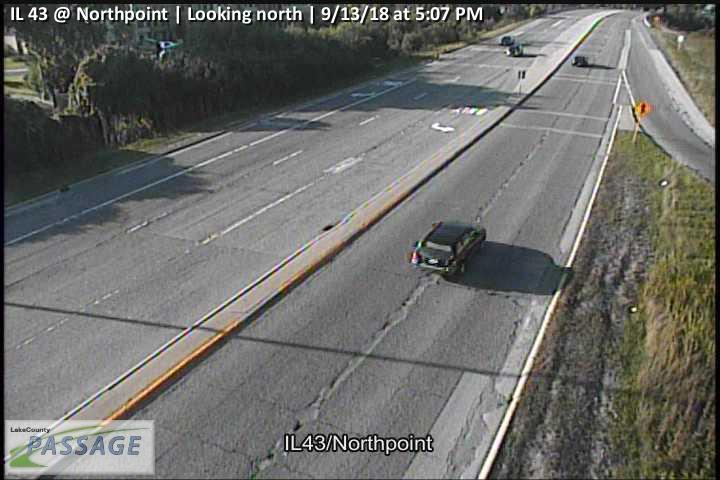Sedan: (408, 221, 486, 280), (505, 44, 524, 57), (573, 56, 587, 68), (501, 35, 515, 45)
